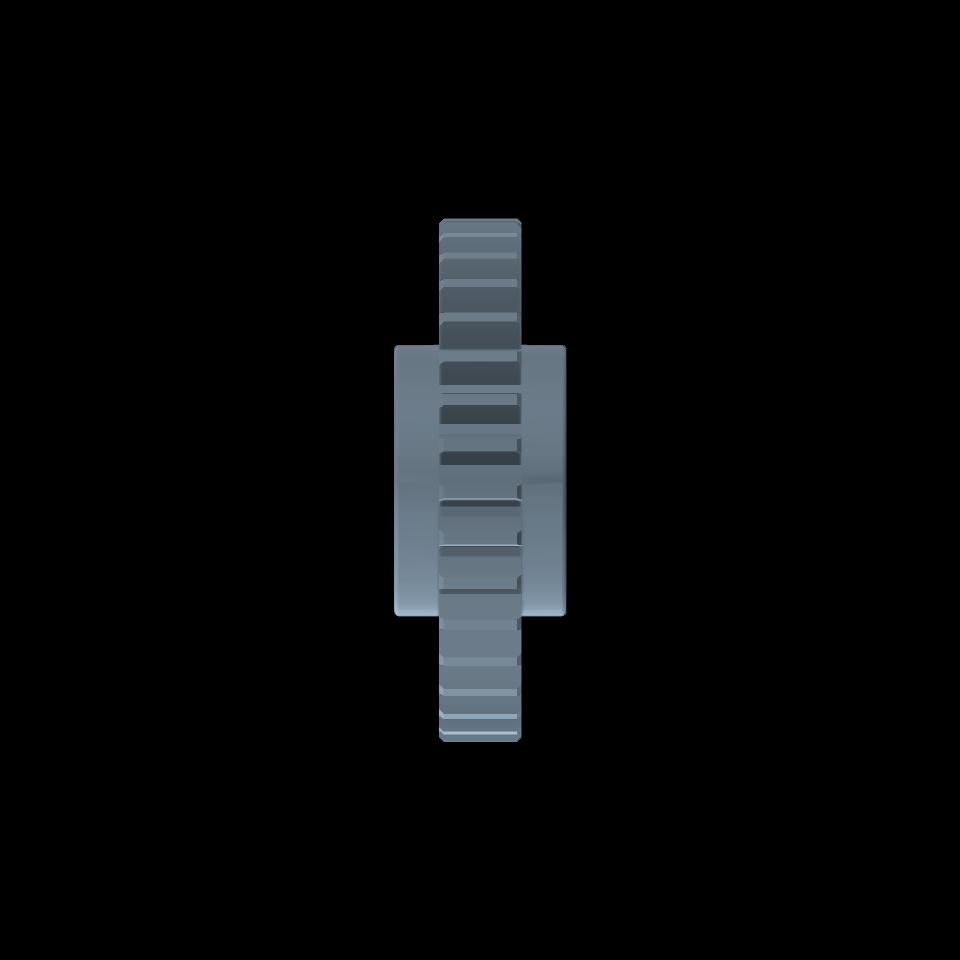Straight: (444, 219, 516, 740)
